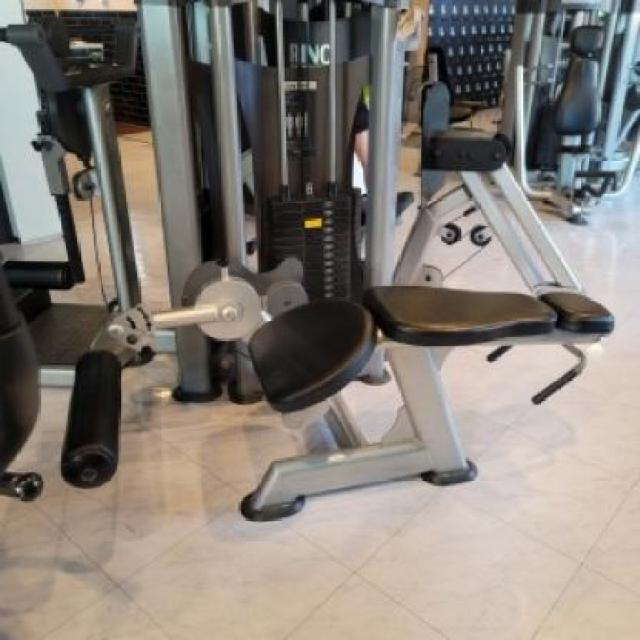reg curl machine: (58, 0, 617, 528)
